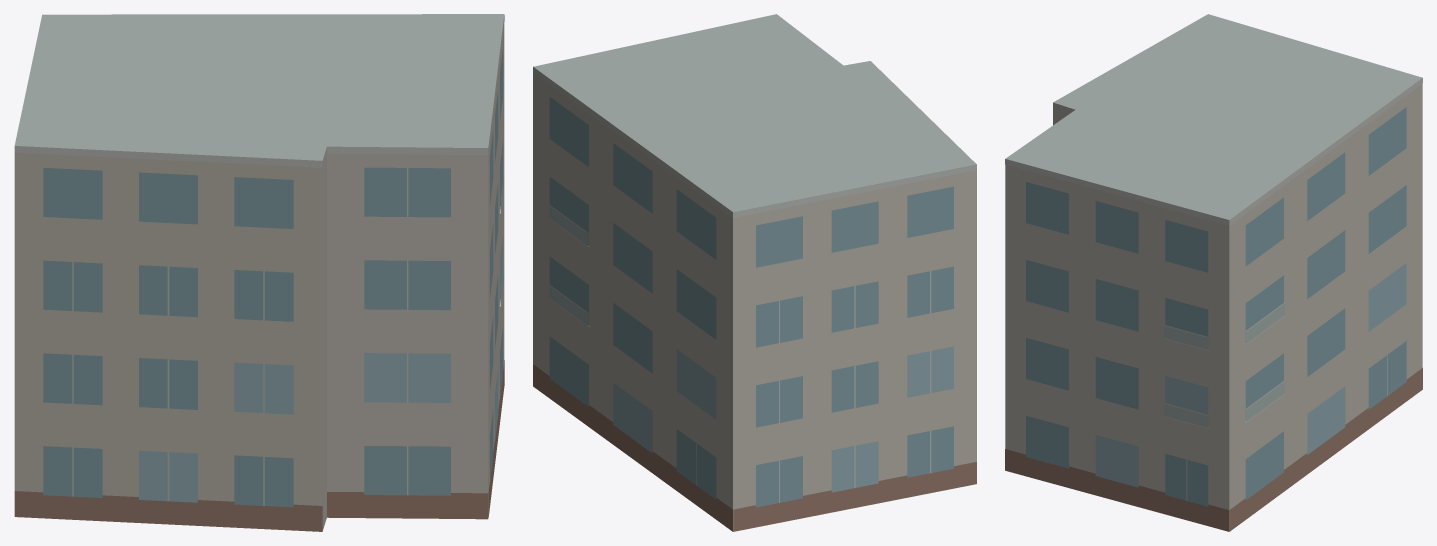
The model's file is survey-upis-32626949.glb.
3 views of the same model, side by side, from view 1: azimuth 30°, elevation 25°; view 2: azimuth 150°, elevation 25°; view 3: azimuth 270°, elevation 25° (orthographic). The views are drawn at different scales.
Parts seen in each view (by area): view 1: survey-upis-32626949.tmp; view 2: survey-upis-32626949.tmp; view 3: survey-upis-32626949.tmp.
Boxes of the visible parts, x1,y1,x2,y2 form: survey-upis-32626949.tmp: (14,14,504,531); survey-upis-32626949.tmp: (533,14,976,531); survey-upis-32626949.tmp: (1005,14,1422,531).
Bounding box in the file's own units: 18.86 × 13.3 × 16.15.
